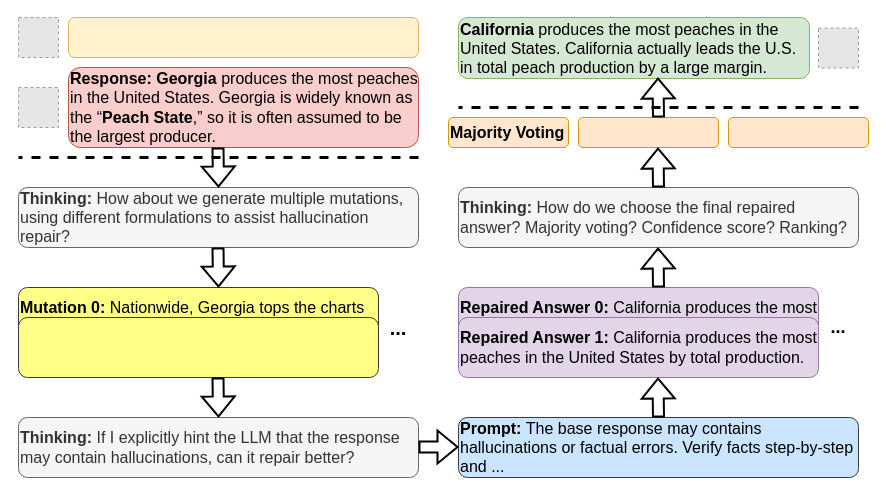
The diagram is 886 pixels wide and 495 high, and some of its shapes have lost their labels. Grey dashed boxes stand in for pictures. The box of each missing label's shape, as (x1, y1, x2, y2) in pixels:
Confidence Score: (578, 116, 718, 148)
Mutation 1: Georgia is the leading U.S. state for peach production.: (18, 316, 378, 378)
Pairwise Ranking: (728, 116, 868, 148)
Question: What U.S. state produces the most peaches?: (68, 16, 418, 58)
